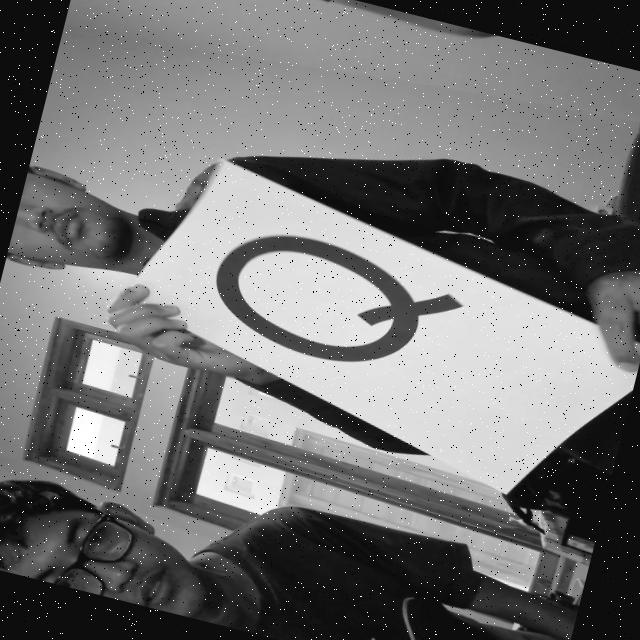q: (176, 200, 504, 405)
